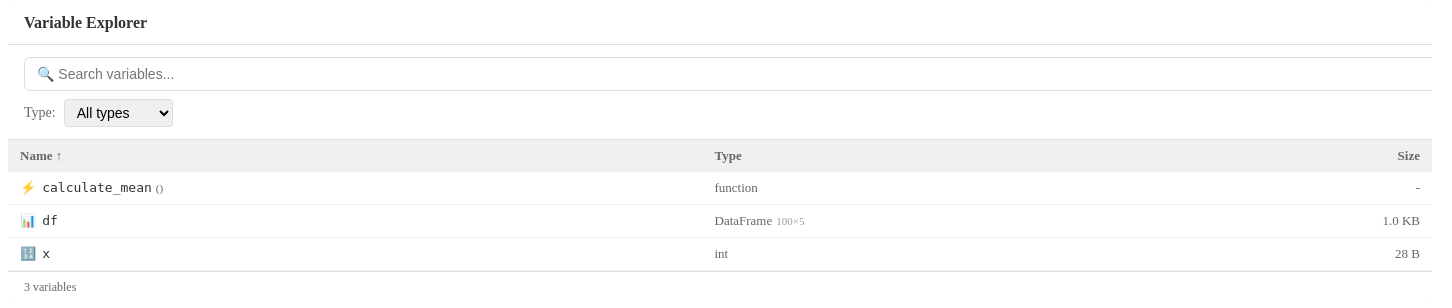
VariableExplorer › should filter by type
Select "DataFrame" in the dropdown at coordinates (118, 113), box [64, 99, 173, 127]
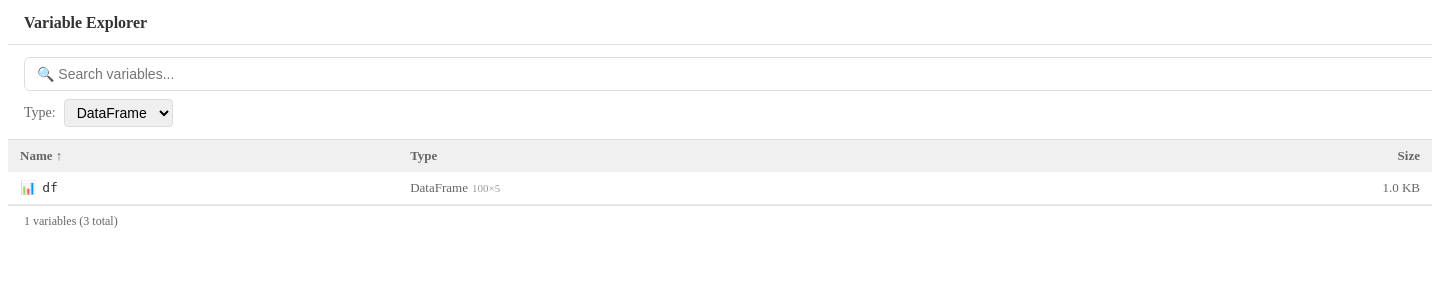
Expected: the text "df" is shown, [42, 180, 58, 195]
Now the text "calculate_mean" is gone
